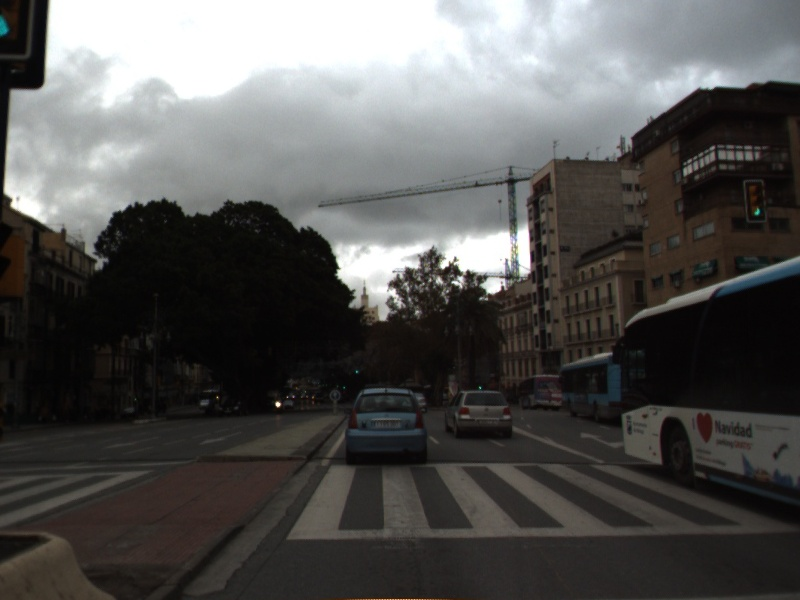STRAIGHT_RIGHT: (578, 430, 624, 450)
